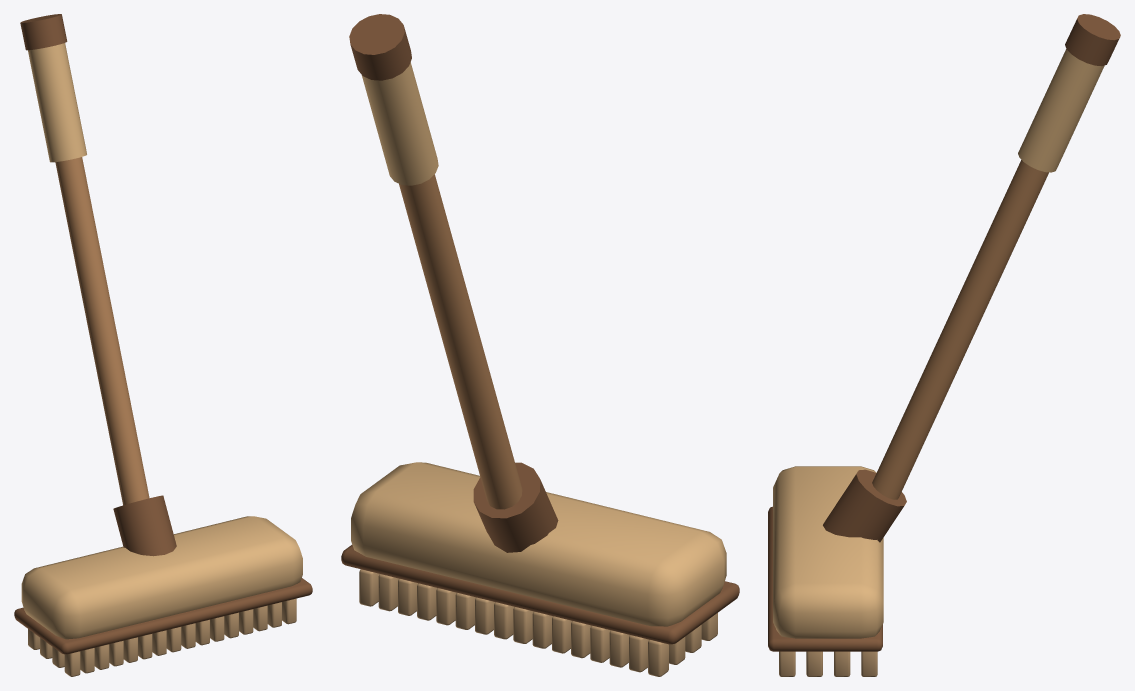
File: tier_3_crafted_wood.glb
The picture shows the model from 3 angles, left to right: view 1: azimuth 30°, elevation 25°; view 2: azimuth 150°, elevation 25°; view 3: azimuth 270°, elevation 25°; orthographic projection. The views are drawn at different scales.
Visible parts, largest first — view 1: BrushTier3_Crafted; view 2: BrushTier3_Crafted; view 3: BrushTier3_Crafted.
Boxes of the visible parts, bbox=[...] form: BrushTier3_Crafted: bbox=[14, 14, 312, 676]; BrushTier3_Crafted: bbox=[341, 14, 739, 676]; BrushTier3_Crafted: bbox=[768, 14, 1120, 676].
Bounding box in the file's own units: 0.79 × 1.61 × 0.8603.
